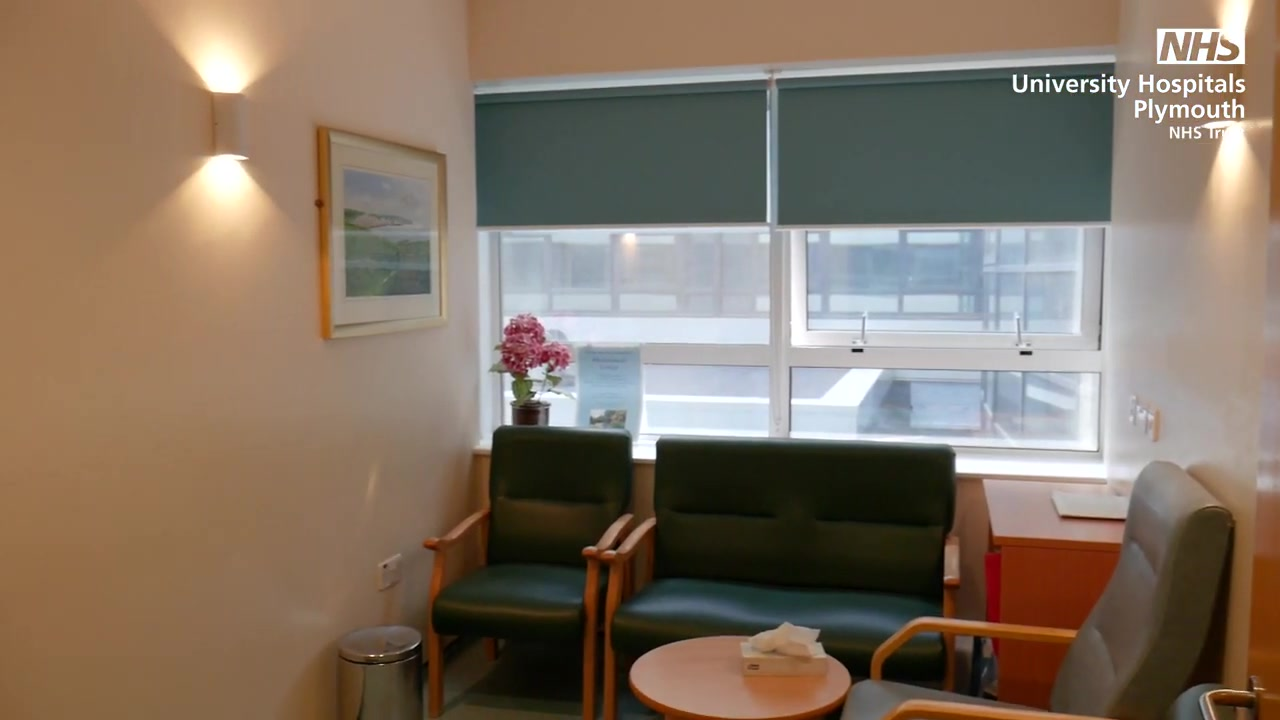chair: (601, 431, 966, 720), (844, 455, 1219, 720), (416, 422, 636, 720)
door_handle: (1196, 668, 1261, 720)
handle: (854, 310, 873, 343), (1012, 313, 1029, 348)
table: (983, 474, 1130, 707), (622, 617, 856, 720)
waste_bin: (339, 620, 425, 720)
